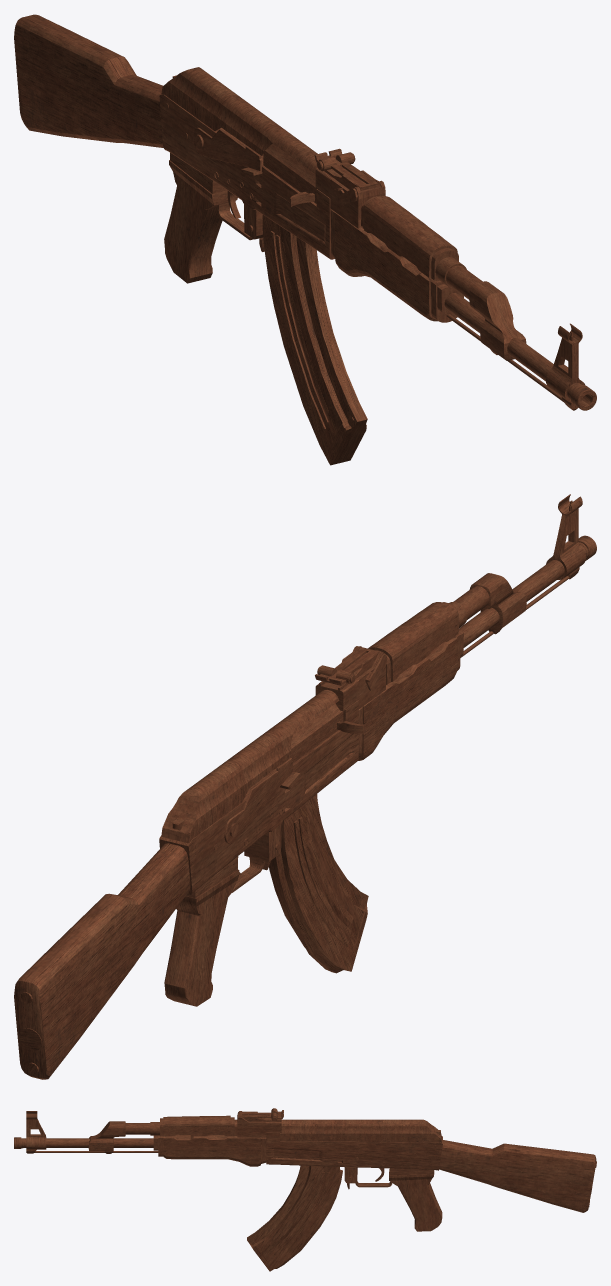
Rendered from gun_A.fbx.
3 renders of one model, top to bottom at view 1: azimuth 30°, elevation 25°; view 2: azimuth 150°, elevation 25°; view 3: azimuth 270°, elevation 25°, orthographic. The views are drawn at different scales.
Visible parts, largest first — view 1: Cube.003_magazin_0; view 2: Cube.003_magazin_0; view 3: Cube.003_magazin_0.
Part boxes in pixels (box(x1,y1,x2,y2)): Cube.003_magazin_0: box(14, 14, 596, 465); Cube.003_magazin_0: box(14, 494, 596, 1079); Cube.003_magazin_0: box(14, 1108, 596, 1271).
Size of the model in its own units: 49.52 by 267 by 897.
2 materials, 2 textured.
